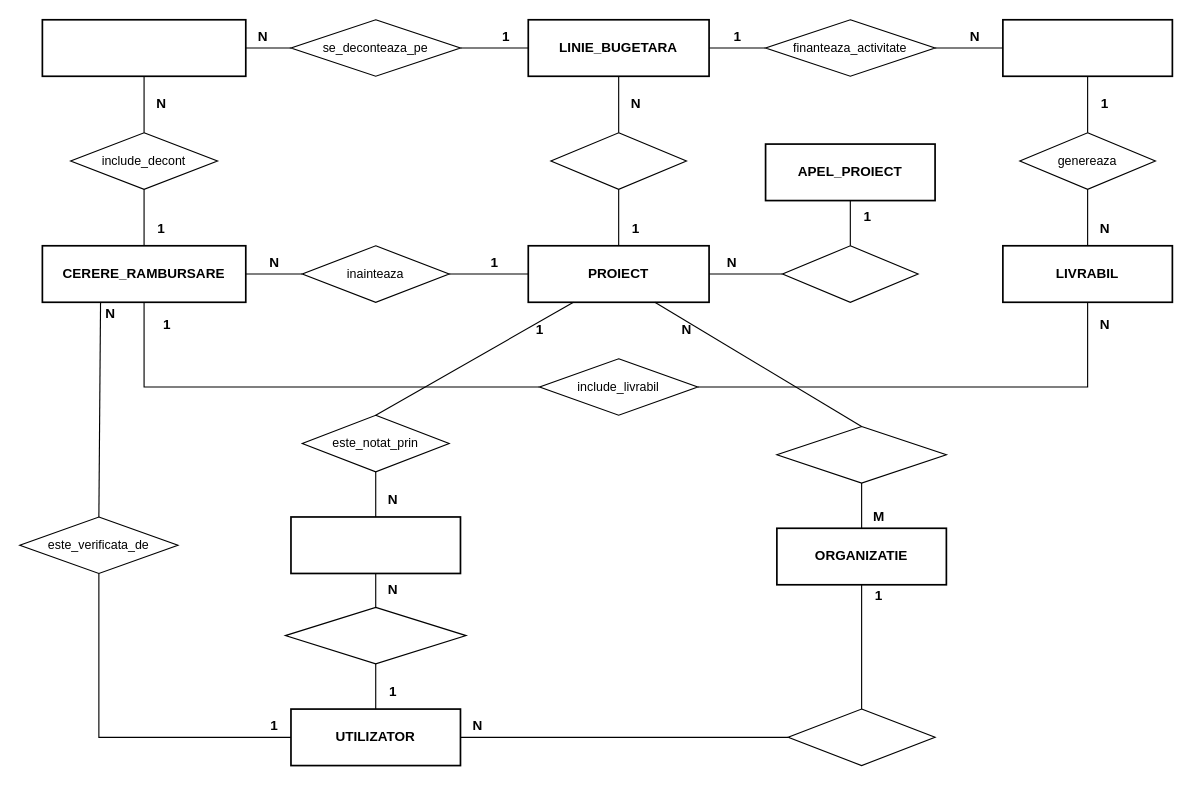
Image size: 1193x786. Some labels were removed from this diagram. Here are the shapes that lost their labels. From the top down, the centre of each, then its label:
pixel 143 47: DOCUMENT_JUSTIFICATIV
pixel 1087 47: ACTIVITATE
pixel 618 160: are_alocat
pixel 849 273: finanteaza
pixel 861 454: formeaza_consortiu
pixel 375 545: EVALUARE
pixel 375 635: completeaza_evaluare
pixel 861 737: are_angajat
